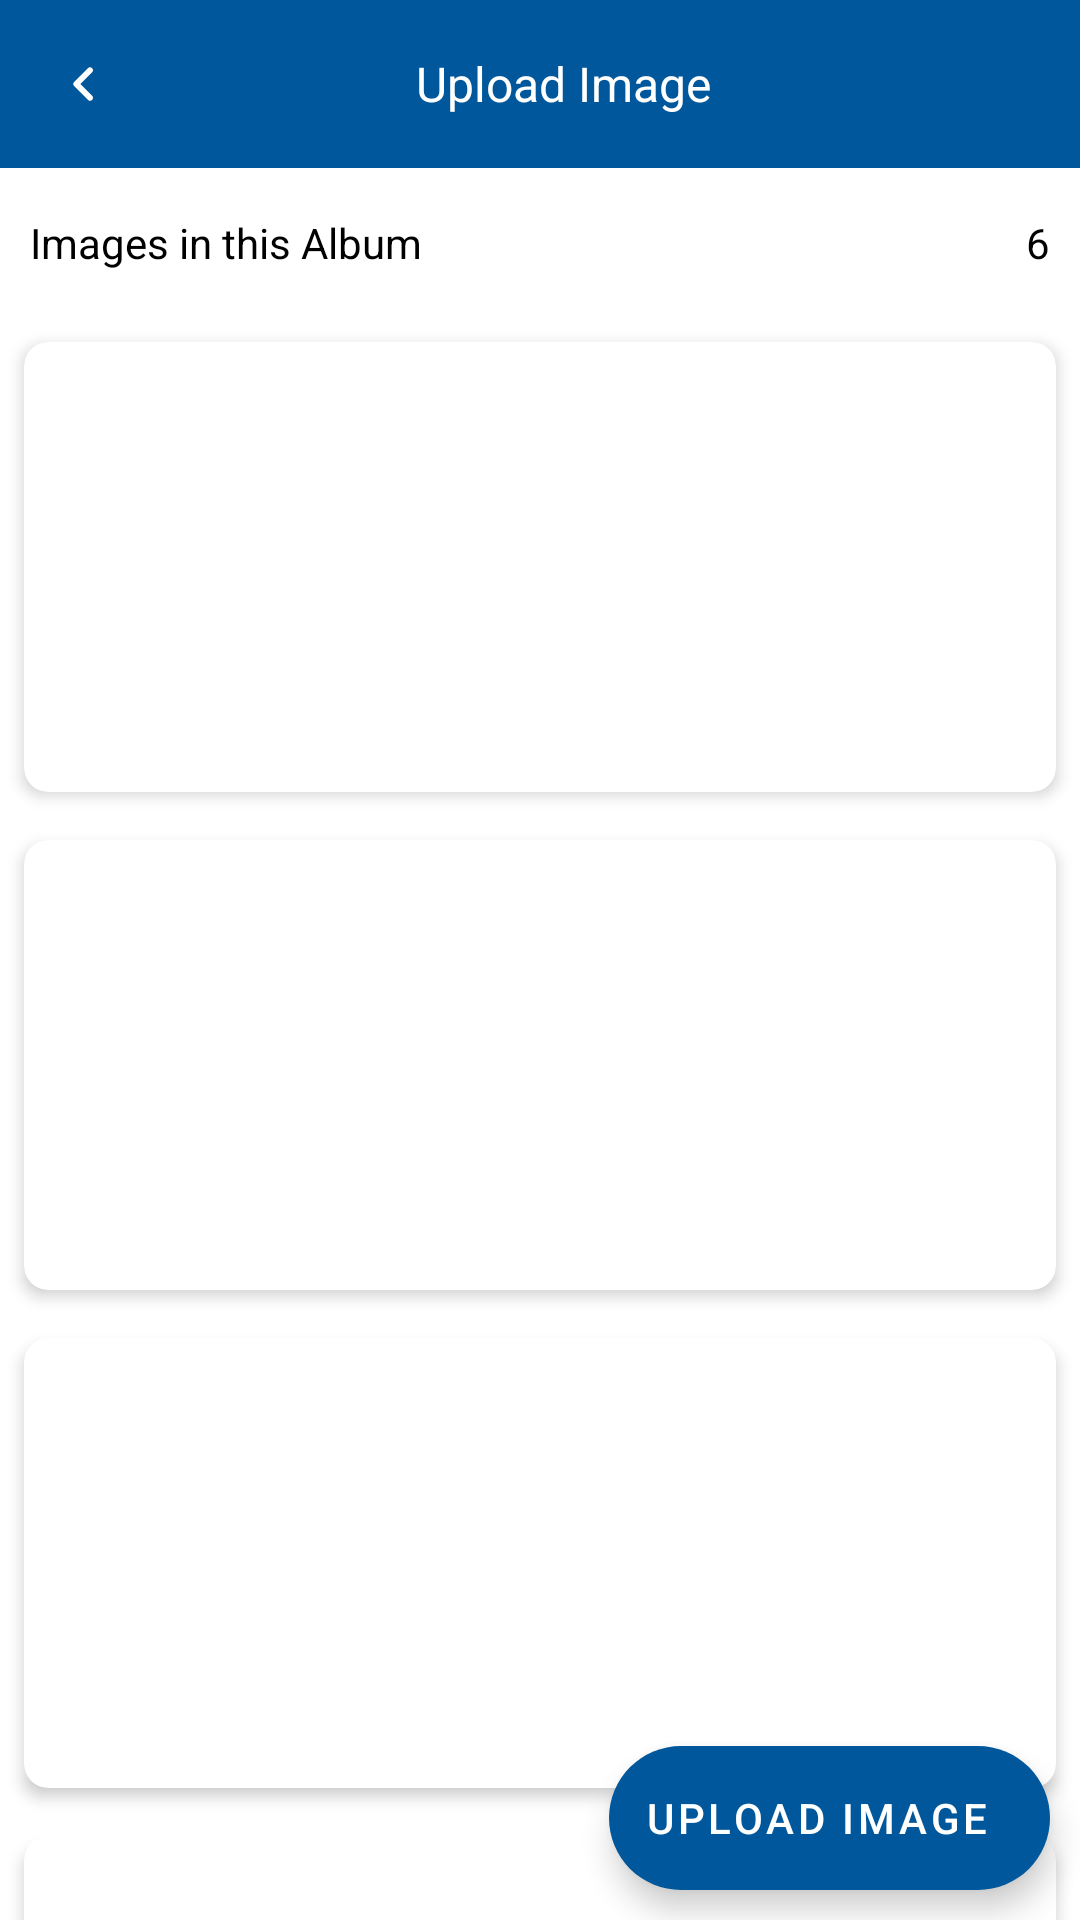

Where icons sit on this 1080w x 1920h app screen, as (x1, y1, x2, y2):
keyboard arrow left: (73, 67, 93, 101)
